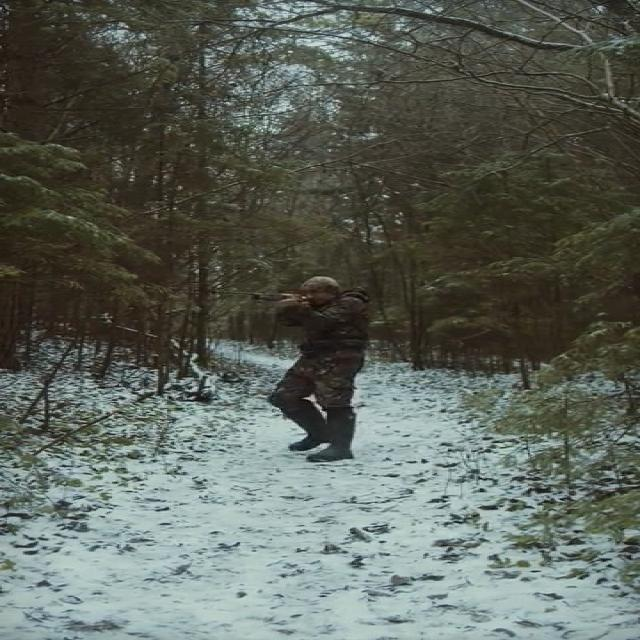Gun_Holder: (215, 286, 313, 308)
Person: (267, 276, 375, 461)
